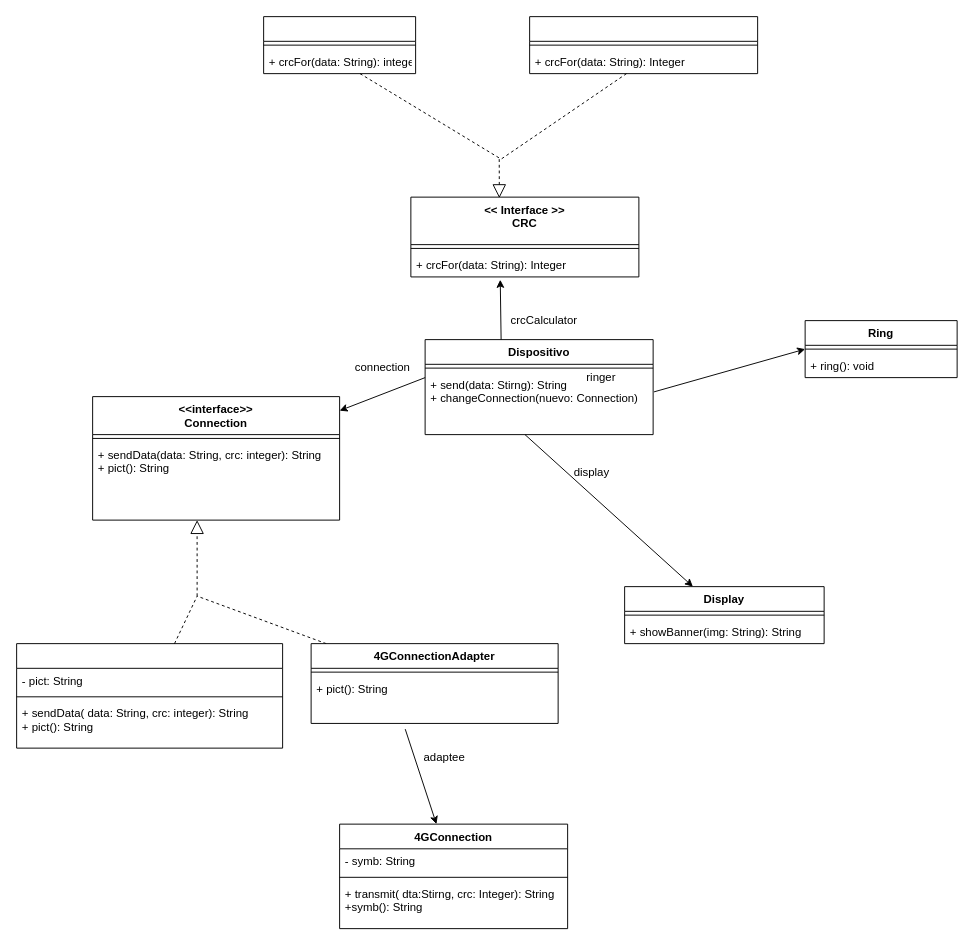
Some shapes in this 974 by 948 pixel diagram are drawn without their labels. The box of each missing label's shape, as (x1, y1, x2, y2) in pixels:
CRC16_Calculator: (263, 16, 416, 74)
CRC32_Calculator: (529, 16, 758, 74)
WifiConn: (16, 643, 283, 748)
